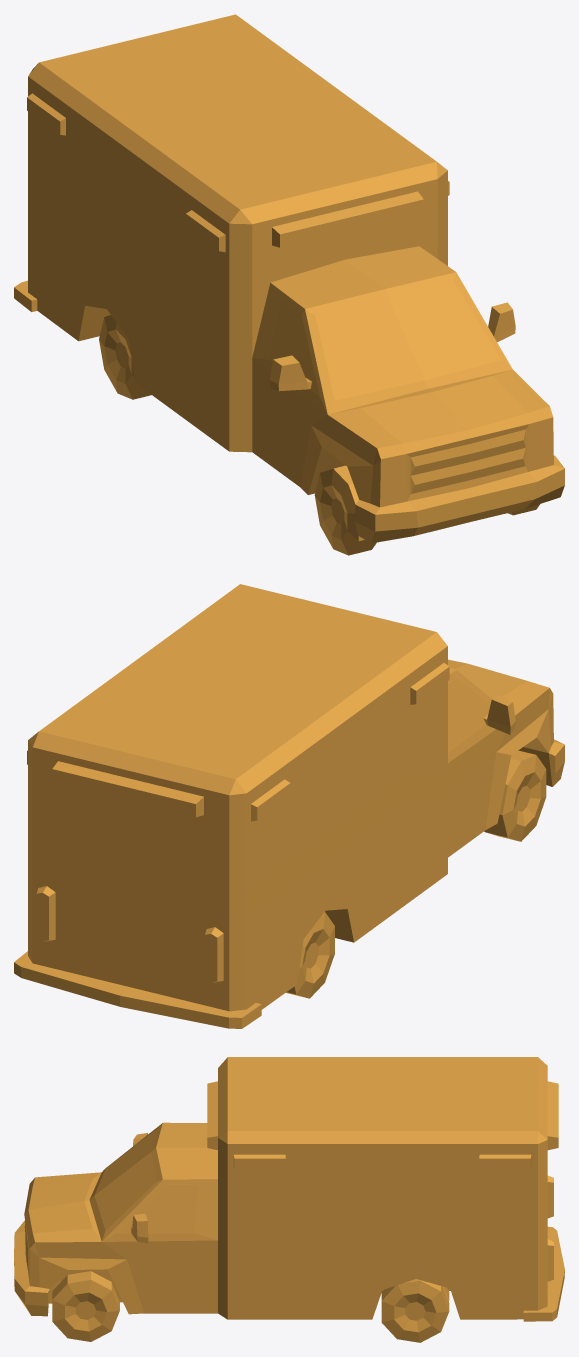
The model's file is car-firefighter-pickup.glb.
3 renders of one model, top to bottom at view 1: azimuth 30°, elevation 25°; view 2: azimuth 150°, elevation 25°; view 3: azimuth 270°, elevation 25°, orthographic. The views are drawn at different scales.
Parts seen in each view (by area): view 1: car-firefighter-pickup-base, car-firefighter-pickup-wheel_FR, car-firefighter-pickup-wheel_BR; view 2: car-firefighter-pickup-base, car-firefighter-pickup-wheel_FR, car-firefighter-pickup-wheel_BR; view 3: car-firefighter-pickup-base, car-firefighter-pickup-wheel_FL, car-firefighter-pickup-wheel_BL.
Part boxes in pixels (x1,y1,x2,y2): car-firefighter-pickup-base: (14, 14, 564, 543); car-firefighter-pickup-wheel_FR: (314, 465, 376, 555); car-firefighter-pickup-wheel_BR: (99, 315, 151, 399); car-firefighter-pickup-base: (14, 584, 564, 1028); car-firefighter-pickup-wheel_FR: (484, 750, 546, 841); car-firefighter-pickup-wheel_BR: (286, 912, 334, 998); car-firefighter-pickup-base: (14, 1057, 564, 1321); car-firefighter-pickup-wheel_FL: (52, 1271, 119, 1341); car-firefighter-pickup-wheel_BL: (381, 1279, 449, 1342).
Bounding box in the file's own units: 2.43 × 2.66 × 6.24.
